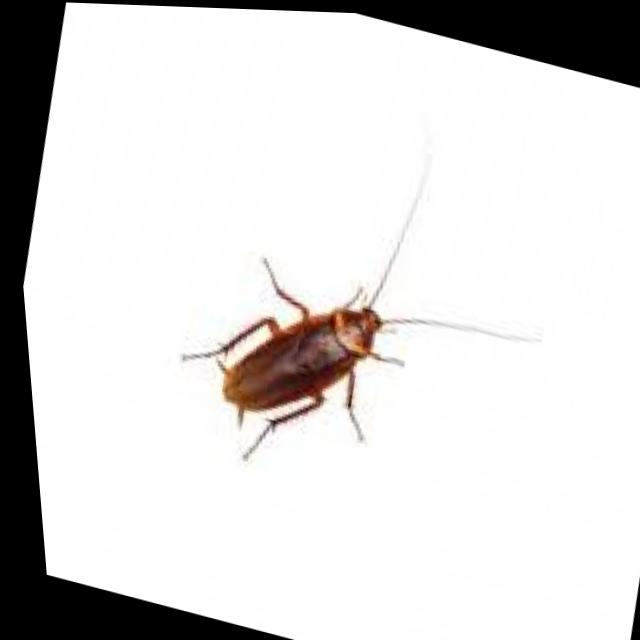Cockroach: (123, 59, 600, 541)
